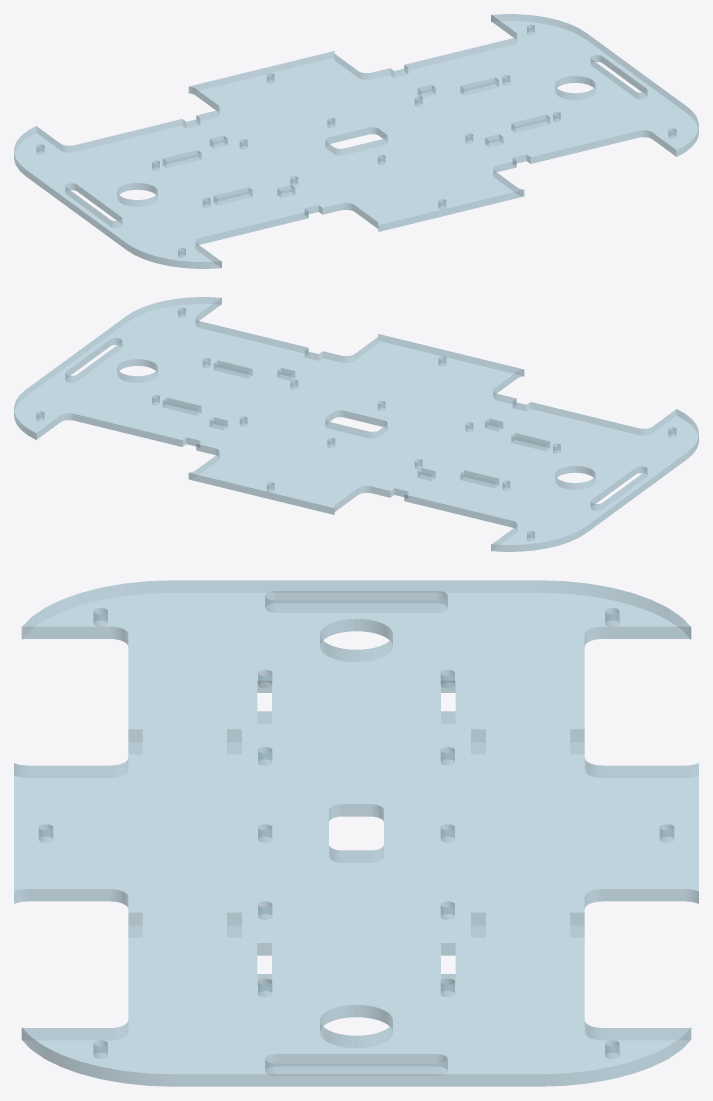
File: placa_inferior.glb
3 views of the same model, one above another, from view 1: azimuth 30°, elevation 25°; view 2: azimuth 150°, elevation 25°; view 3: azimuth 270°, elevation 25° (orthographic). The views are drawn at different scales.
Visible parts, largest first — view 1: placa; view 2: placa; view 3: placa.
Boxes of the visible parts, box(x1,y1,x2,y2) form: placa: box(14, 14, 698, 268); placa: box(14, 297, 698, 551); placa: box(14, 580, 698, 1086).
Size of the model in its own units: 256 by 3 by 150.
